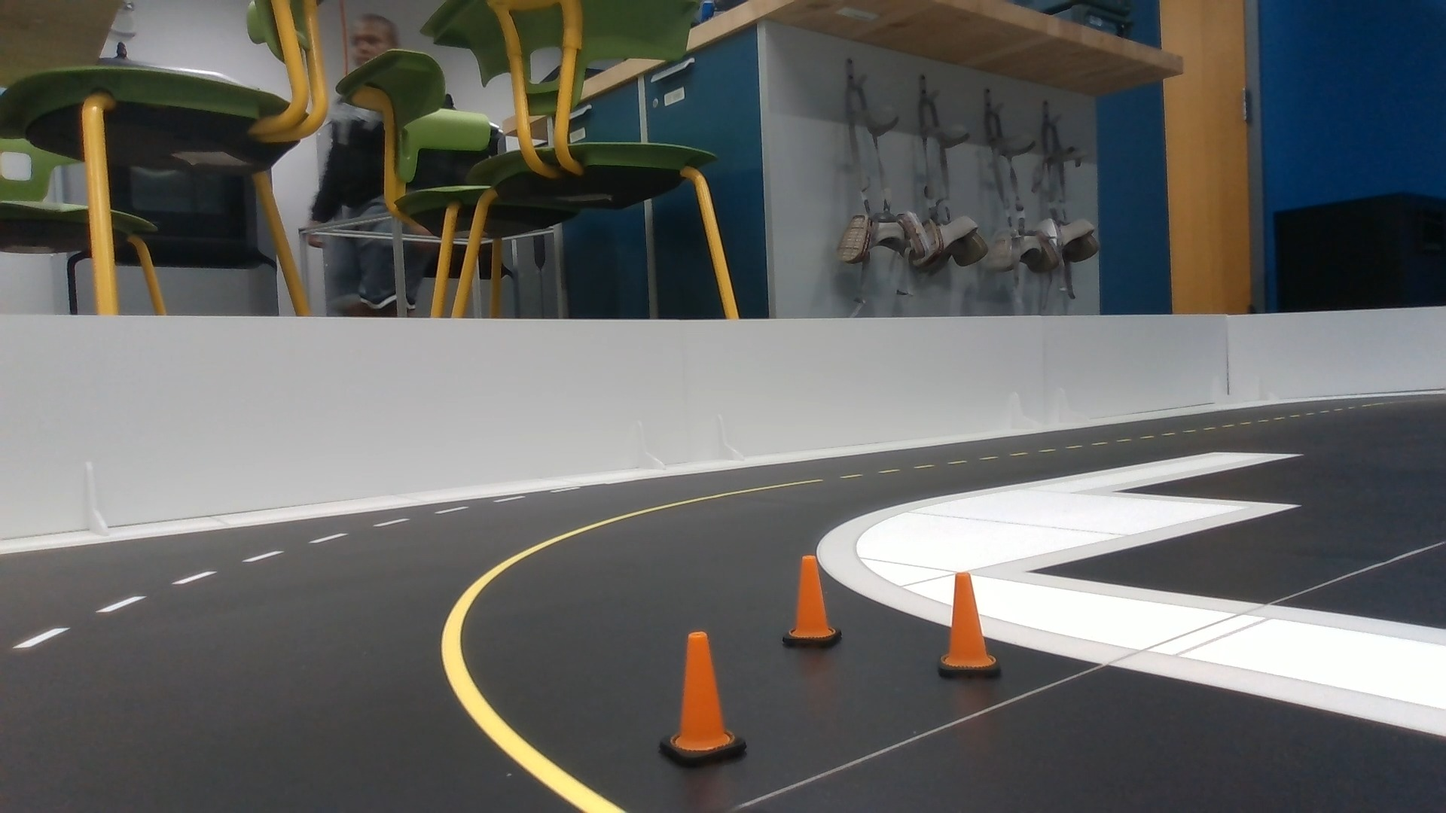Traffic Cone: (660, 632, 746, 766), (939, 572, 999, 677), (782, 556, 840, 647)
